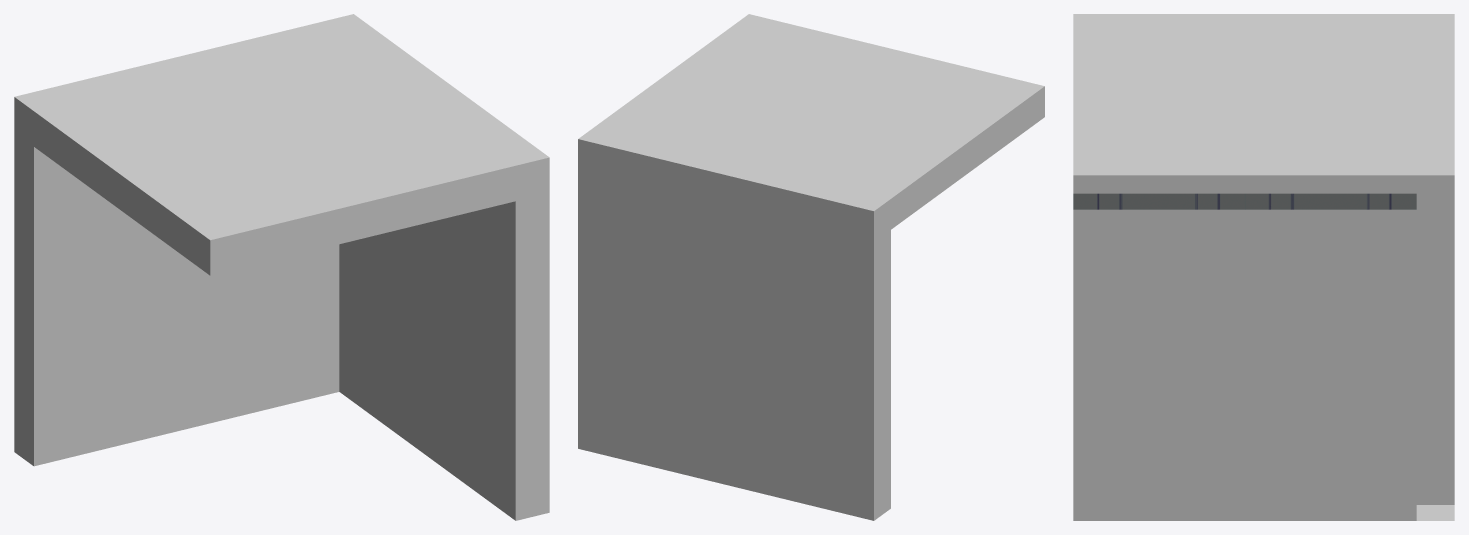
File: tiles_wall_ceiling_east_corner.glb
The picture shows the model from 3 angles, left to right: view 1: azimuth 30°, elevation 25°; view 2: azimuth 150°, elevation 25°; view 3: azimuth 270°, elevation 25°; orthographic projection. The views are drawn at different scales.
Visible parts, largest first — view 1: Wall_Corner_Roof_East; view 2: Wall_Corner_Roof_East; view 3: Wall_Corner_Roof_East.
Part boxes in pixels (<box>): Wall_Corner_Roof_East: <box>14,14,549,520</box>; Wall_Corner_Roof_East: <box>578,14,1044,520</box>; Wall_Corner_Roof_East: <box>1073,14,1454,520</box>.
Bounding box in the file's own units: 2 × 2 × 2.
Materials: 2 (1 with a texture image).
